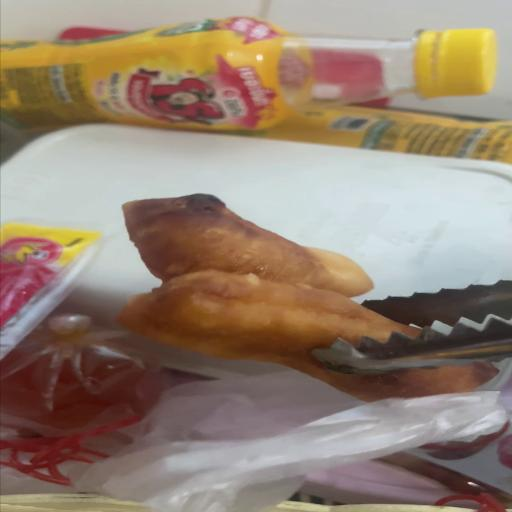street_golden_good: (118, 194, 495, 402)
